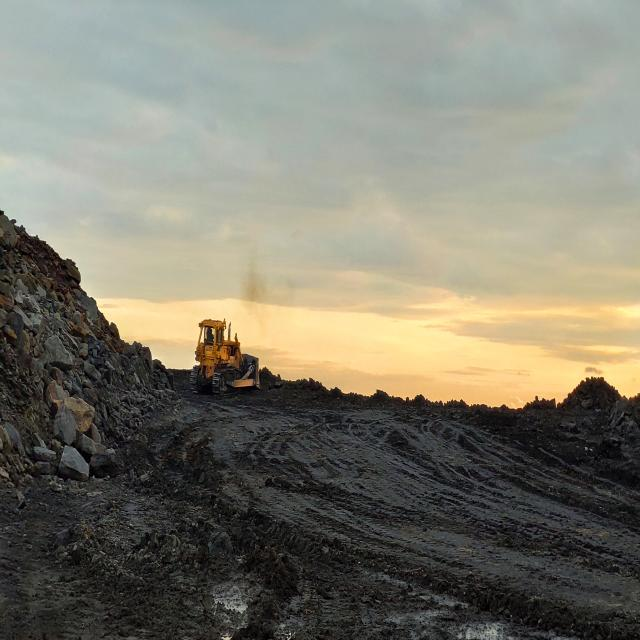buldozerpayloadergrader: (190, 320, 260, 393)
